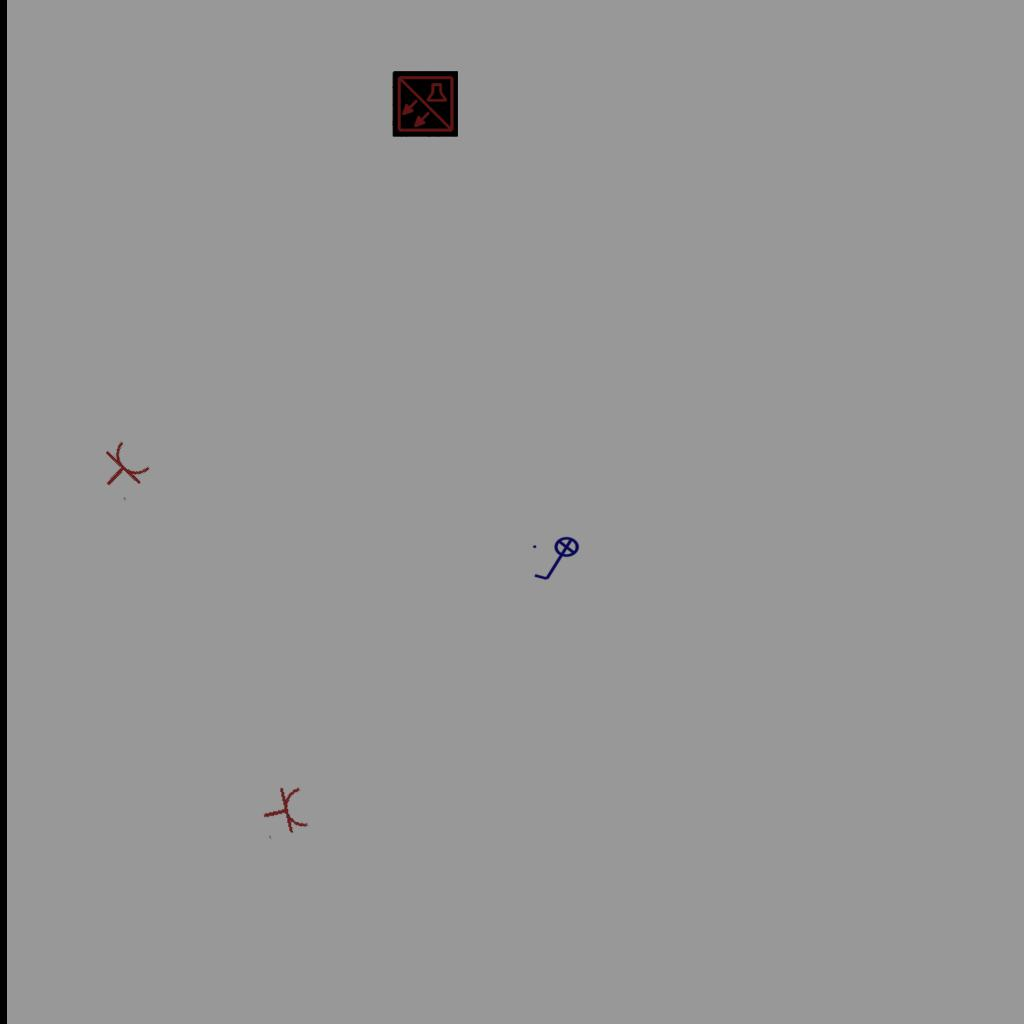Ausschalter_beleuchtet: (530, 536, 586, 584)
OKW_Multisensormelder_(Kombination_optischer_Rauch-Kahlenmonoxid_Waerme-Melder): (392, 71, 458, 137)
Schukosteckdose_einfach: (89, 437, 156, 503), (257, 782, 312, 842)
